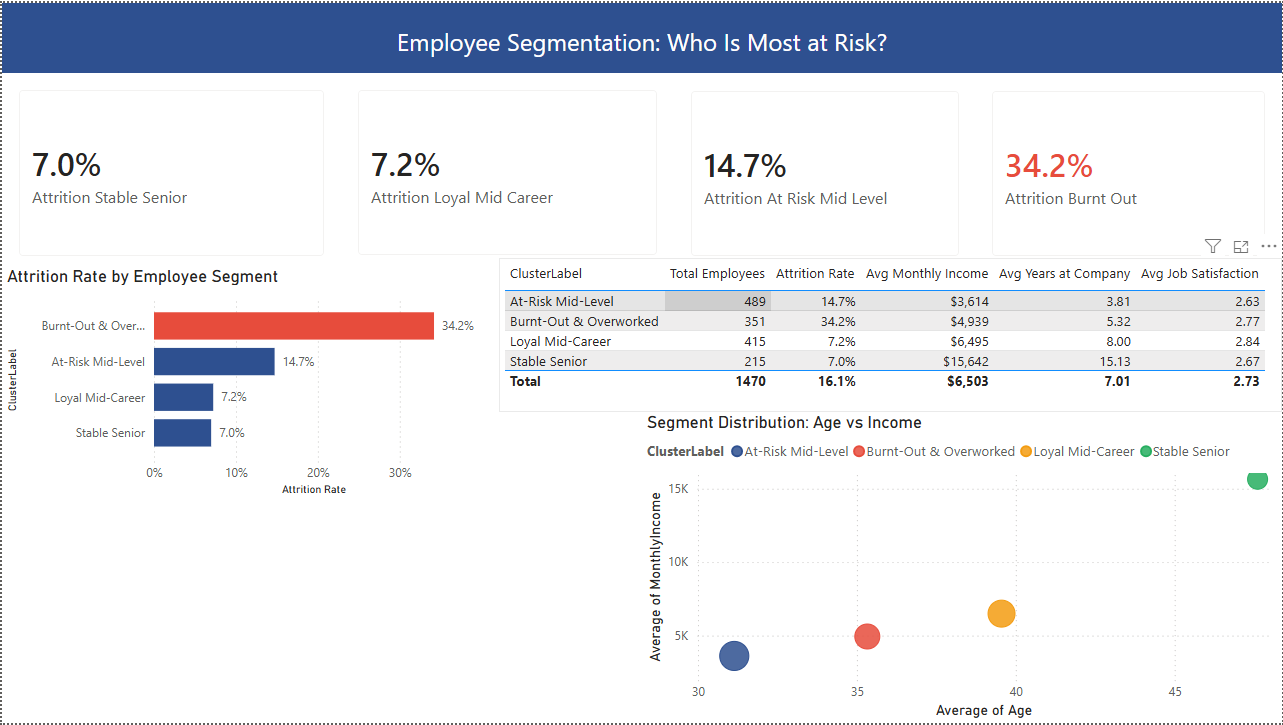

The dashboard page shown, as its layout file describes it:
{"tool":"powerbi","page":{"name":"Segment Analysis","canvas":[1280,720],"ordinal":1},"visuals":[{"type":"textbox","box":[0,0,1280,70],"z":0},{"type":"cardVisual","fields":{"Data":["HR_Attrition_Cleaned.Attrition Stable Senior"]},"box":[0,70,339.5,200.4],"z":1000},{"type":"cardVisual","fields":{"Data":["HR_Attrition_Cleaned.Attrition Loyal Mid Career"]},"box":[339.5,70,332.6,199.4],"z":1001},{"type":"cardVisual","fields":{"Data":["HR_Attrition_Cleaned.Attrition At Risk Mid Level"]},"box":[672.1,71,301.5,199.4],"z":1002},{"type":"cardVisual","fields":{"Data":["HR_Attrition_Cleaned.Attrition Burnt Out"]},"box":[972.6,71,307.4,199.4],"z":1003},{"type":"clusteredBarChart","title":"Attrition Rate by Employee Segment","fields":{"Y":["HR_Attrition_Cleaned.Attrition Rate"],"Category":["HR_Attrition_Cleaned.ClusterLabel"]},"box":[0,262.6,489.2,234.4],"z":1004},{"type":"tableEx","fields":{"Values":["HR_Attrition_Cleaned.ClusterLabel","HR_Attrition_Cleaned.Total Employees","HR_Attrition_Cleaned.Attrition Rate","HR_Attrition_Cleaned.Avg Monthly Income","HR_Attrition_Cleaned.Avg Years at Company","HR_Attrition_Cleaned.Avg Job Satisfaction"]},"box":[497,254.8,783,153.7],"z":1005},{"type":"scatterChart","title":"Segment Distribution: Age vs Income","fields":{"X":["Avg(HR_Attrition_Cleaned.Age)"],"Y":["Avg(HR_Attrition_Cleaned.MonthlyIncome)"],"Series":["HR_Attrition_Cleaned.ClusterLabel"],"Size":["HR_Attrition_Cleaned.Total Employees"]},"box":[640,408.5,640,311.2],"z":1006}]}

Visuals, with their boxes in screenshot pixels (x1, y1, x2, y2), scaled from the page's 1280x720 canvas onto the 1283x725 screenshot:
textbox: bbox=[0, 0, 1282, 70]
cardVisual - HR_Attrition_Cleaned.Attrition Stable Senior: bbox=[0, 70, 340, 272]
cardVisual - HR_Attrition_Cleaned.Attrition Loyal Mid Career: bbox=[340, 70, 674, 271]
cardVisual - HR_Attrition_Cleaned.Attrition At Risk Mid Level: bbox=[674, 71, 976, 272]
cardVisual - HR_Attrition_Cleaned.Attrition Burnt Out: bbox=[975, 71, 1282, 272]
"Attrition Rate by Employee Segment" clusteredBarChart: bbox=[0, 264, 490, 500]
tableEx - HR_Attrition_Cleaned.ClusterLabel x HR_Attrition_Cleaned.Total Employees: bbox=[498, 257, 1282, 411]
"Segment Distribution: Age vs Income" scatterChart: bbox=[642, 411, 1282, 724]
